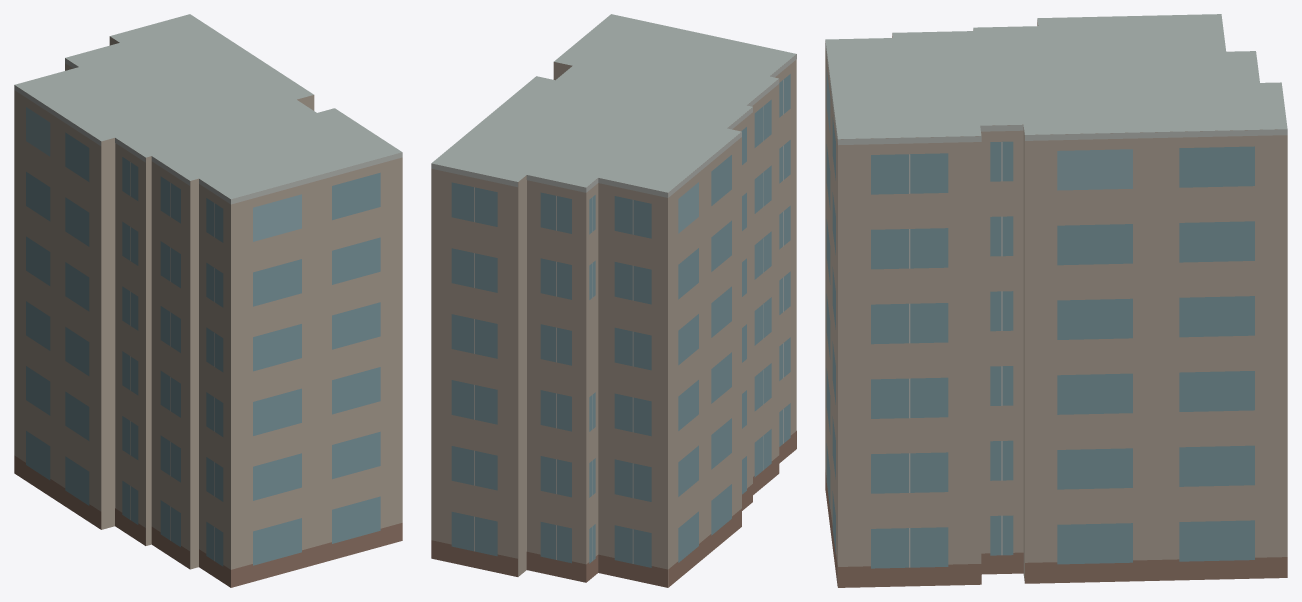
The model's file is survey-upis-32671202.glb.
3 views of the same model, side by side, from view 1: azimuth 30°, elevation 25°; view 2: azimuth 150°, elevation 25°; view 3: azimuth 270°, elevation 25° (orthographic). The views are drawn at different scales.
Parts seen in each view (by area): view 1: survey-upis-32671202.tmp; view 2: survey-upis-32671202.tmp; view 3: survey-upis-32671202.tmp.
Boxes of the visible parts, x1,y1,x2,y2 form: survey-upis-32671202.tmp: (14, 14, 402, 587); survey-upis-32671202.tmp: (431, 14, 796, 587); survey-upis-32671202.tmp: (825, 14, 1287, 587).
Bounding box in the file's own units: 10.96 × 18.3 × 17.1.
